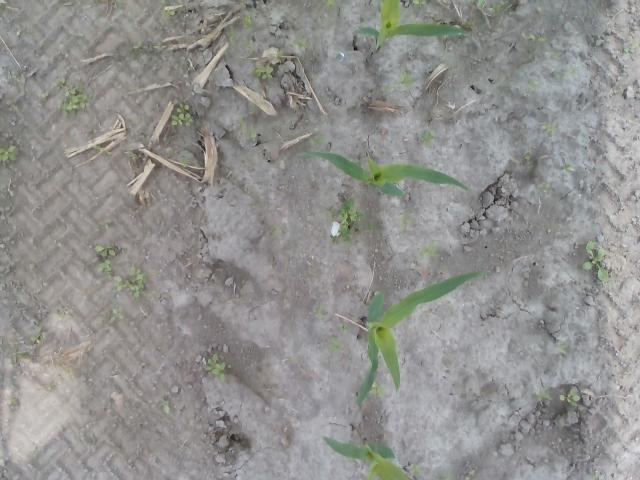Maize: (356, 270, 486, 408), (296, 149, 472, 201), (355, 0, 471, 50), (319, 434, 410, 480)
Weeds: (328, 196, 375, 248), (54, 78, 96, 121), (579, 240, 608, 284), (520, 30, 562, 60), (114, 266, 145, 303), (225, 14, 257, 49), (463, 0, 512, 19), (94, 243, 117, 281), (0, 342, 31, 368), (170, 100, 193, 130), (416, 238, 440, 264), (416, 127, 442, 149), (240, 103, 256, 138), (206, 356, 226, 384), (559, 386, 581, 410), (397, 206, 417, 232), (320, 335, 346, 354), (551, 64, 580, 80), (399, 71, 416, 96), (128, 39, 144, 64), (29, 326, 49, 346), (247, 65, 273, 80), (522, 152, 538, 176), (0, 144, 19, 162), (410, 0, 432, 15), (288, 35, 310, 50), (526, 78, 544, 96), (159, 0, 176, 18), (542, 120, 560, 137), (369, 381, 385, 400), (382, 80, 400, 96), (320, 0, 338, 16), (311, 303, 326, 322), (110, 304, 126, 321), (95, 216, 112, 232), (8, 70, 23, 88), (462, 16, 478, 32), (623, 40, 640, 55), (406, 463, 424, 477), (308, 134, 329, 146), (560, 161, 576, 176), (6, 98, 22, 113), (454, 23, 470, 38), (536, 387, 553, 401), (54, 310, 72, 322), (535, 181, 552, 193), (160, 399, 172, 416), (152, 40, 168, 52), (456, 37, 471, 49), (558, 343, 568, 360), (0, 0, 10, 17), (336, 323, 349, 336), (179, 159, 194, 170), (583, 472, 603, 480), (4, 398, 18, 409), (440, 470, 454, 480), (270, 224, 283, 234), (465, 469, 476, 480), (446, 63, 458, 72), (276, 48, 288, 57), (88, 128, 99, 136), (39, 94, 48, 103), (92, 144, 102, 152), (32, 447, 40, 455), (239, 0, 247, 8)
